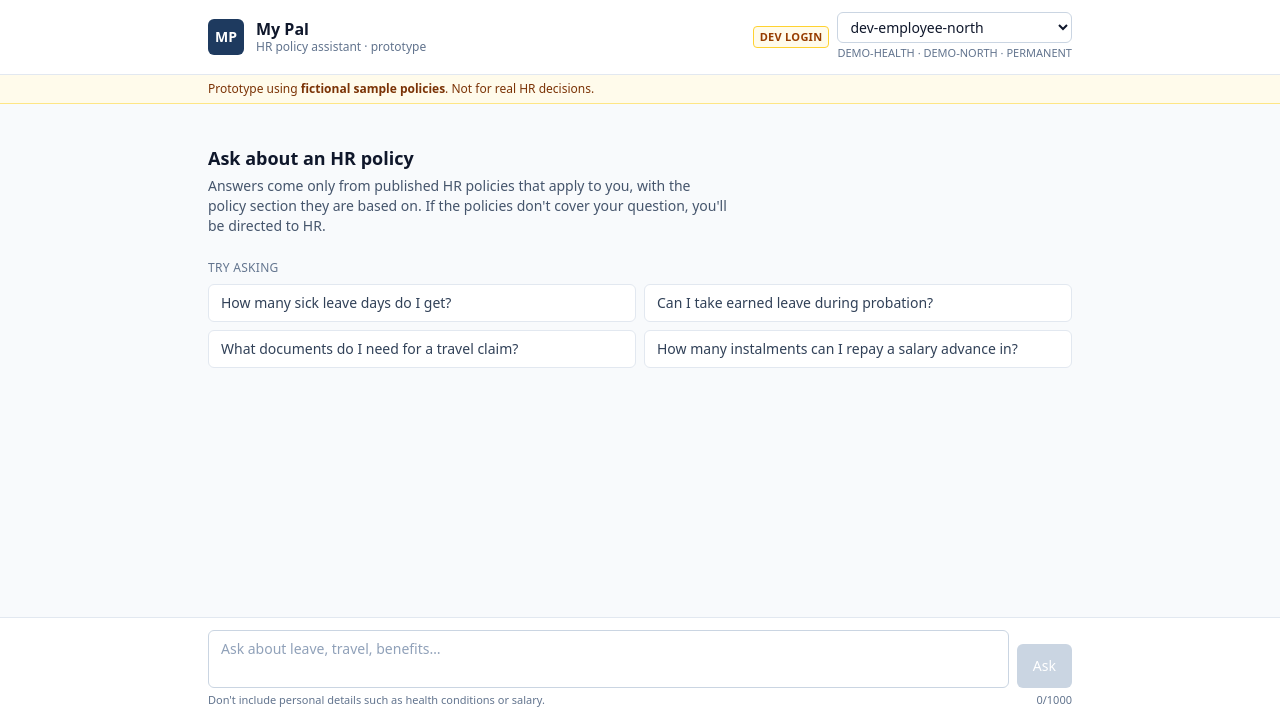
Test: My Pal chat › records helpful feedback with no text
Type "How many sick leave days do I get?" into the text box named "Your question" at x=608, y=658, box [208,630,1009,688]
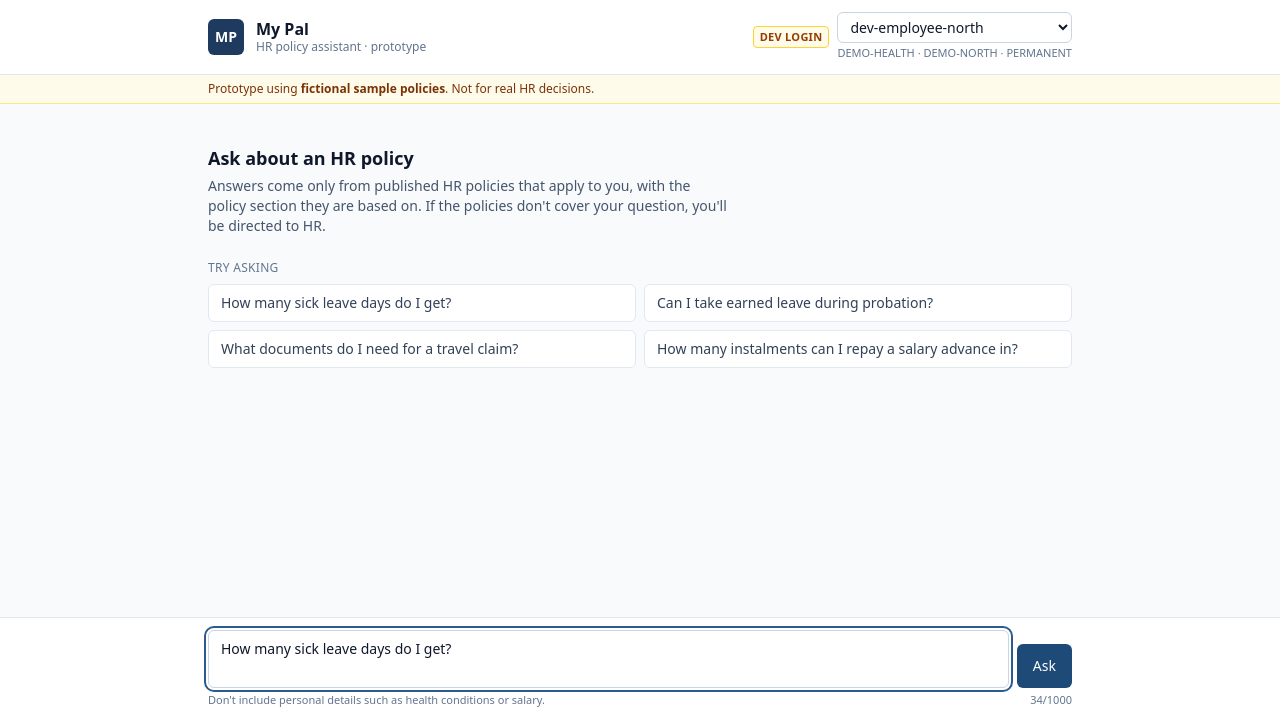
Press Enter
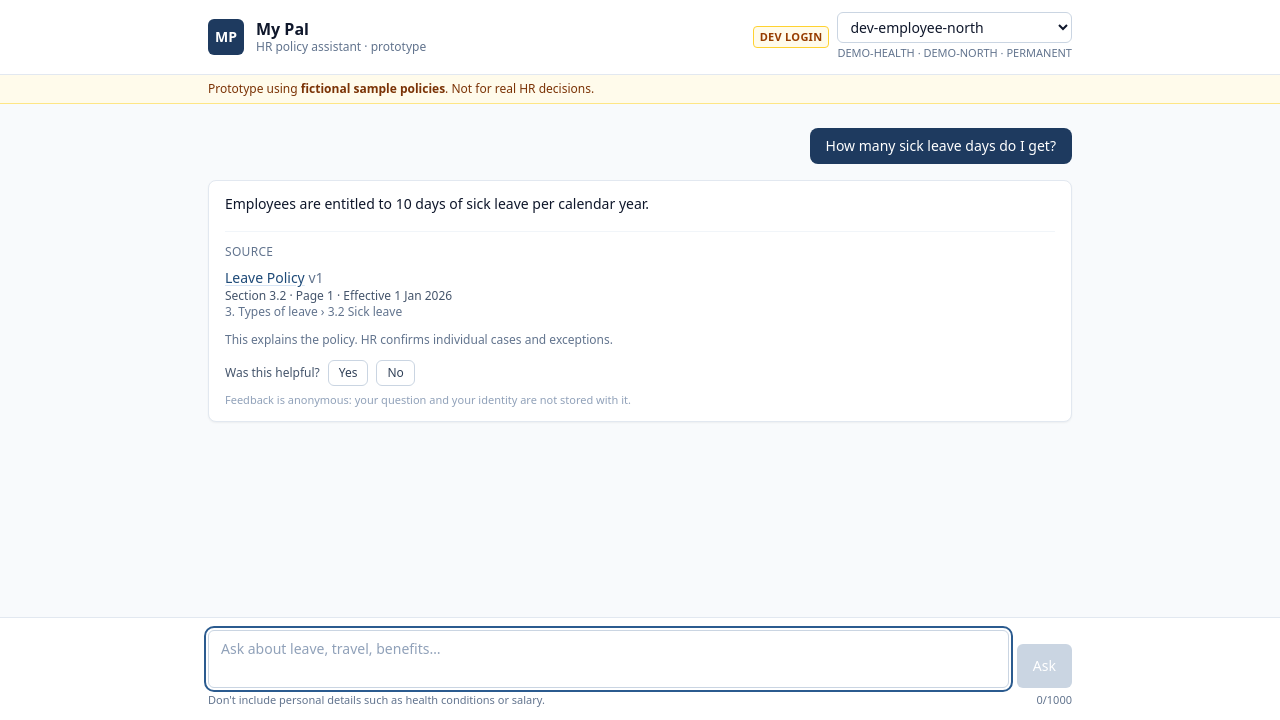
Click the button "Yes" at x=348, y=373, box [328,360,368,386]
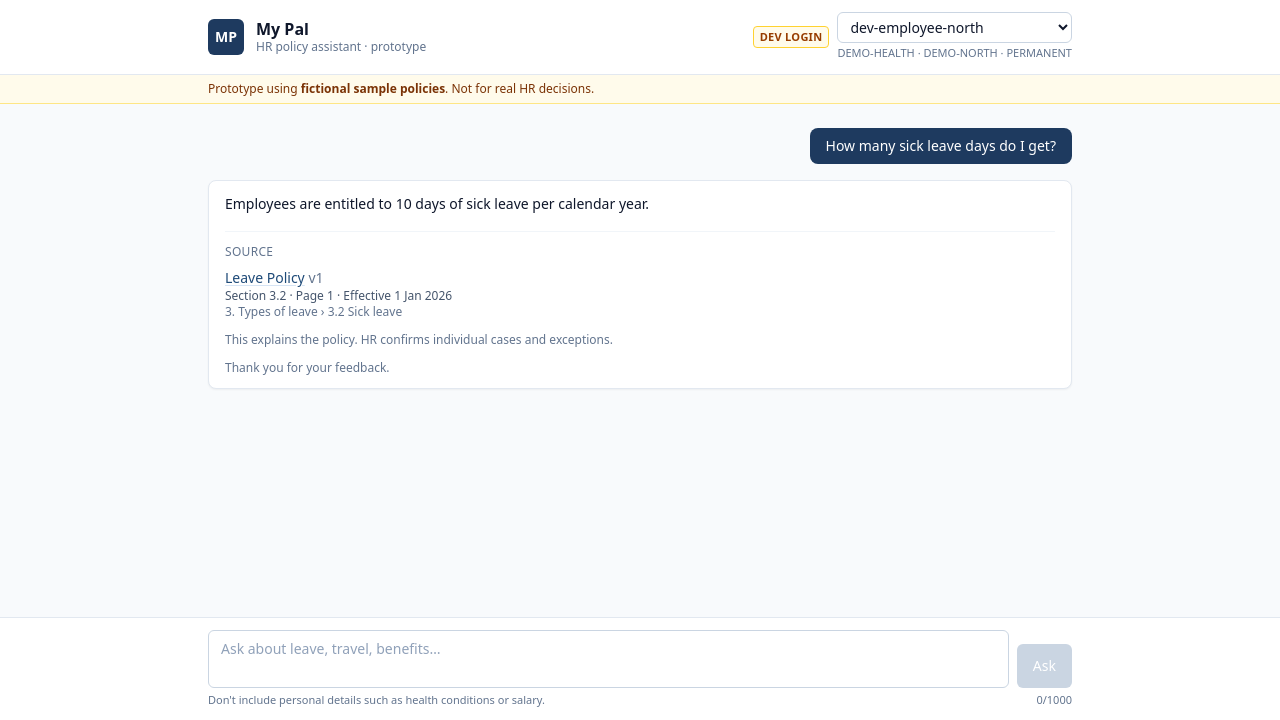
Check: the text "Thank you for your feedback." is shown, box [225,359,390,376]
